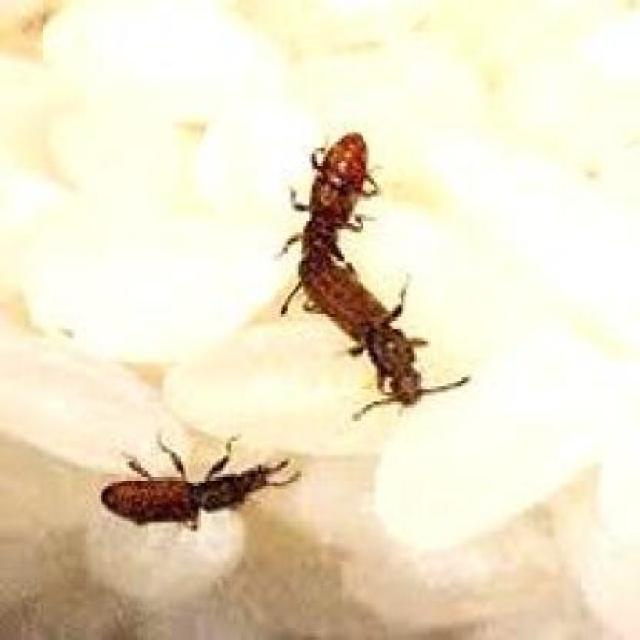rice-bug: (297, 134, 427, 408), (98, 465, 275, 530)
